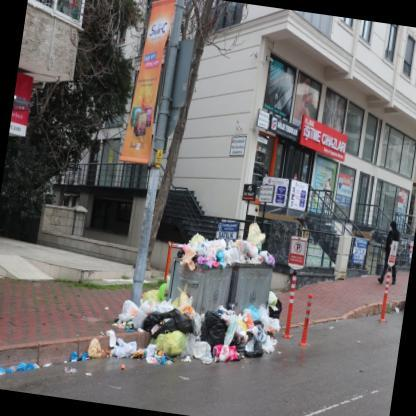Garbage: (117, 299, 220, 367), (216, 312, 283, 366), (118, 296, 194, 337), (180, 233, 233, 268), (225, 235, 278, 269), (0, 354, 53, 381), (246, 219, 268, 262), (110, 338, 146, 360), (266, 294, 284, 332), (88, 339, 113, 360), (65, 350, 96, 366)
